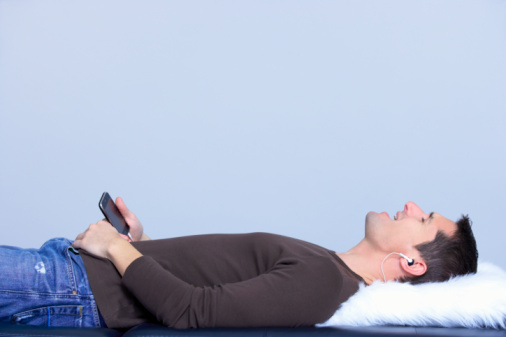deitado: (16, 180, 490, 321)
